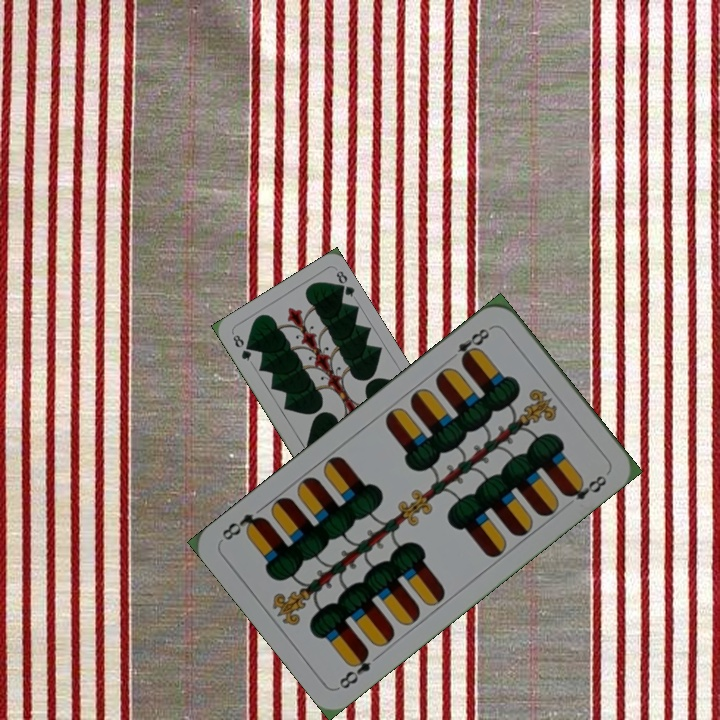E8: (444, 322, 495, 366), (335, 646, 374, 692)
G8: (228, 330, 254, 364)
